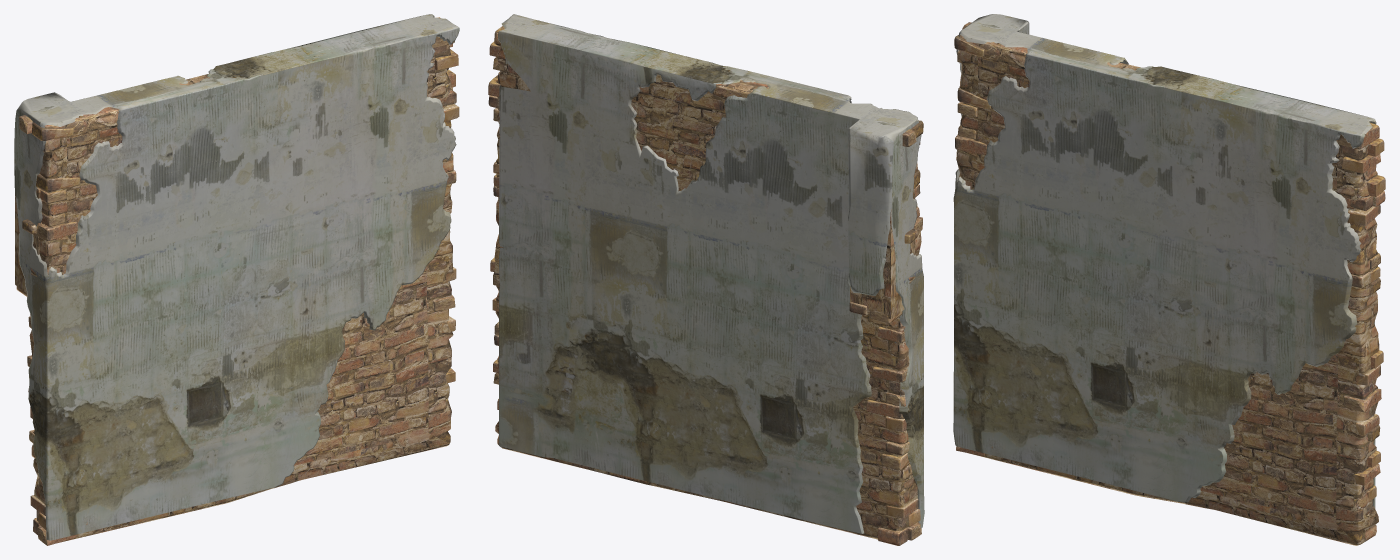
The model's file is Wall2.fbx.
3 renders of one model, left to right at view 1: azimuth 30°, elevation 25°; view 2: azimuth 150°, elevation 25°; view 3: azimuth 330°, elevation 25°, orthographic.
Parts seen in each view (by area): view 1: Group_0_Sub_1__sm29_010_AbandonedHouse01_Wall_Concrete_Mat__, Group_0_Sub_0__sm20_005_PlateWallLarge_B_Mat__Env_Layer; view 2: Group_0_Sub_1__sm29_010_AbandonedHouse01_Wall_Concrete_Mat__, Group_0_Sub_0__sm20_005_PlateWallLarge_B_Mat__Env_Layer; view 3: Group_0_Sub_1__sm29_010_AbandonedHouse01_Wall_Concrete_Mat__, Group_0_Sub_0__sm20_005_PlateWallLarge_B_Mat__Env_Layer.
Boxes of the visible parts, x1,y1,x2,y2 form: Group_0_Sub_1__sm29_010_AbandonedHouse01_Wall_Concrete_Mat__: (14,14,459,540); Group_0_Sub_0__sm20_005_PlateWallLarge_B_Mat__Env_Layer: (15,17,459,545); Group_0_Sub_1__sm29_010_AbandonedHouse01_Wall_Concrete_Mat__: (498,14,924,533); Group_0_Sub_0__sm20_005_PlateWallLarge_B_Mat__Env_Layer: (488,26,923,545); Group_0_Sub_1__sm29_010_AbandonedHouse01_Wall_Concrete_Mat__: (953,14,1376,508); Group_0_Sub_0__sm20_005_PlateWallLarge_B_Mat__Env_Layer: (954,22,1385,545).
Bounding box in the file's own units: 318 × 302 × 44.76.
